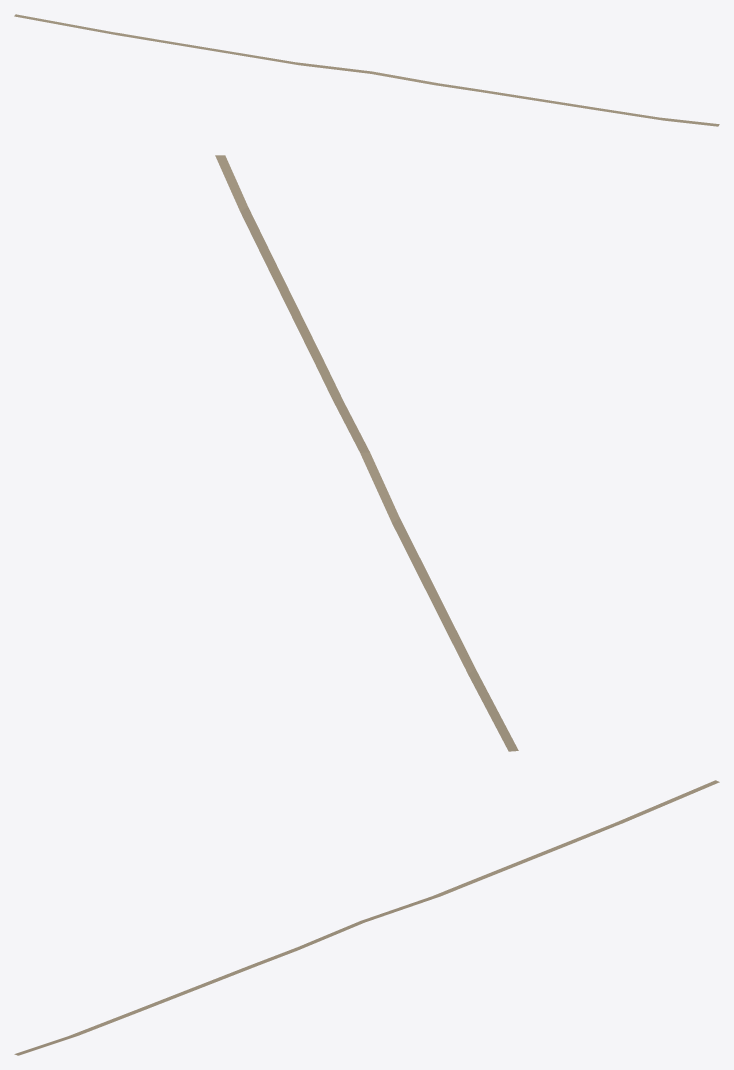
Rendered from farm_-6_1_track.glb.
The picture shows the model from 3 angles, top to bottom: view 1: azimuth 30°, elevation 25°; view 2: azimuth 150°, elevation 25°; view 3: azimuth 270°, elevation 25°; orthographic projection. The views are drawn at different scales.
Parts seen in each view (by area): view 1: geometry_0; view 2: geometry_0; view 3: geometry_0.
Part boxes in pixels (x1,y1,x2,y2): geometry_0: (14, 14, 719, 126); geometry_0: (215, 155, 518, 751); geometry_0: (14, 780, 719, 1055).
Bounding box in the file's own units: 312 × 8.24 × 354.
